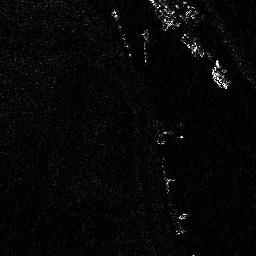ship: (180, 35, 205, 56)
